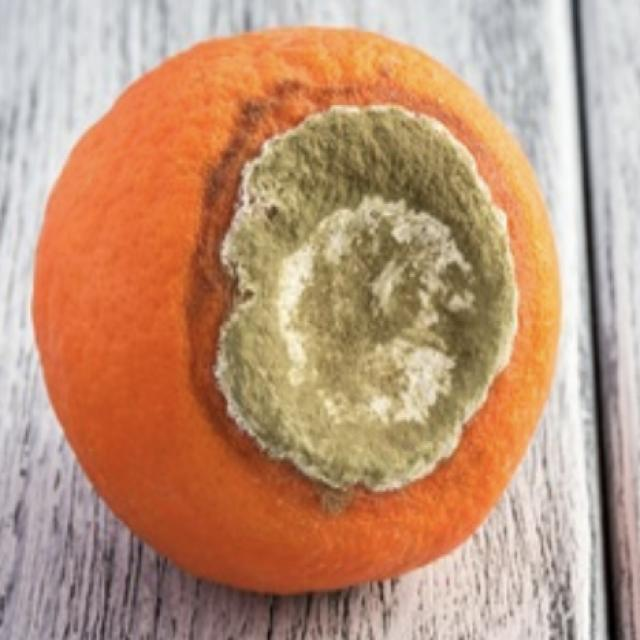rotten-orange: (24, 26, 558, 602)
